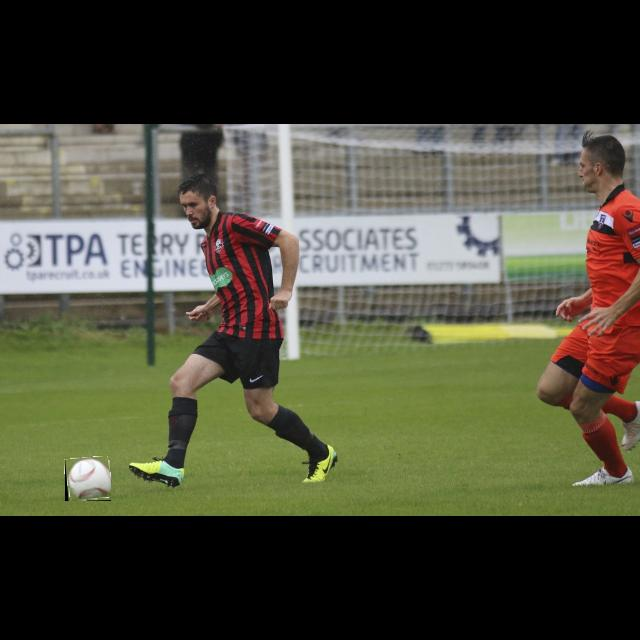Football: (65, 457, 111, 501)
